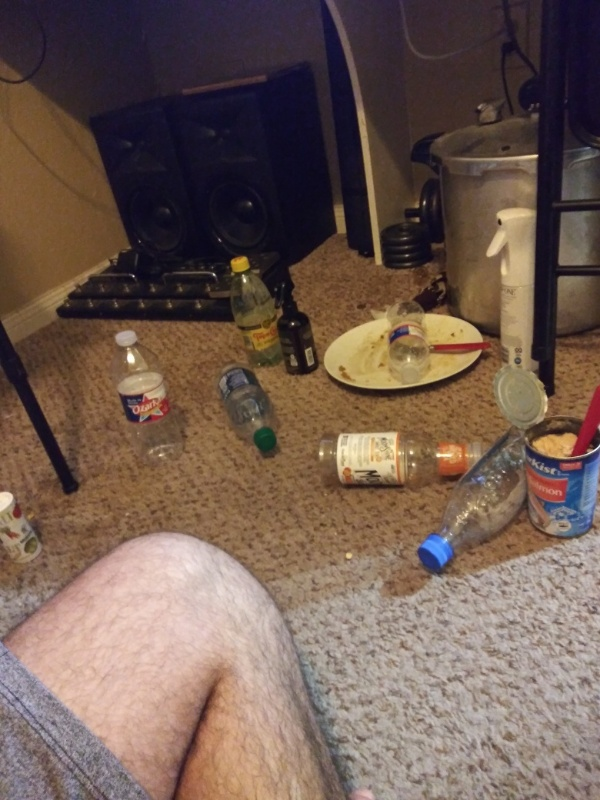bottle: (413, 419, 543, 577), (106, 325, 189, 464), (314, 423, 486, 490), (220, 252, 284, 368), (209, 360, 283, 458), (385, 292, 430, 385)
